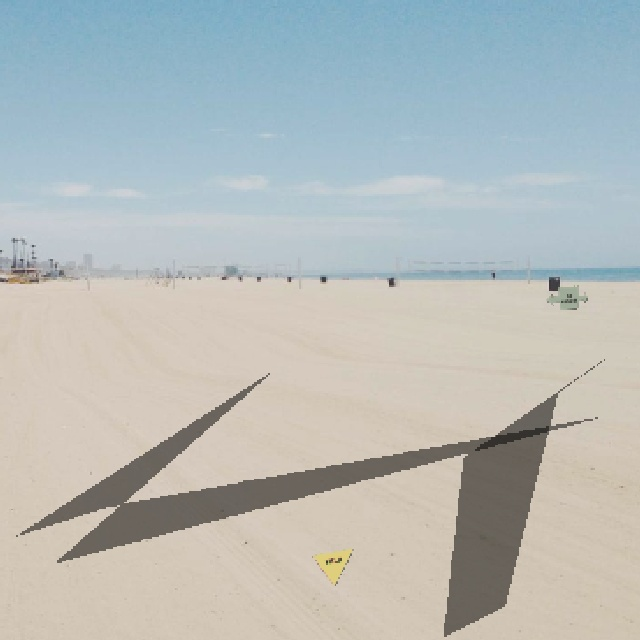GO_AROUND: (544, 284, 587, 309)
YIELD: (310, 546, 353, 586)
